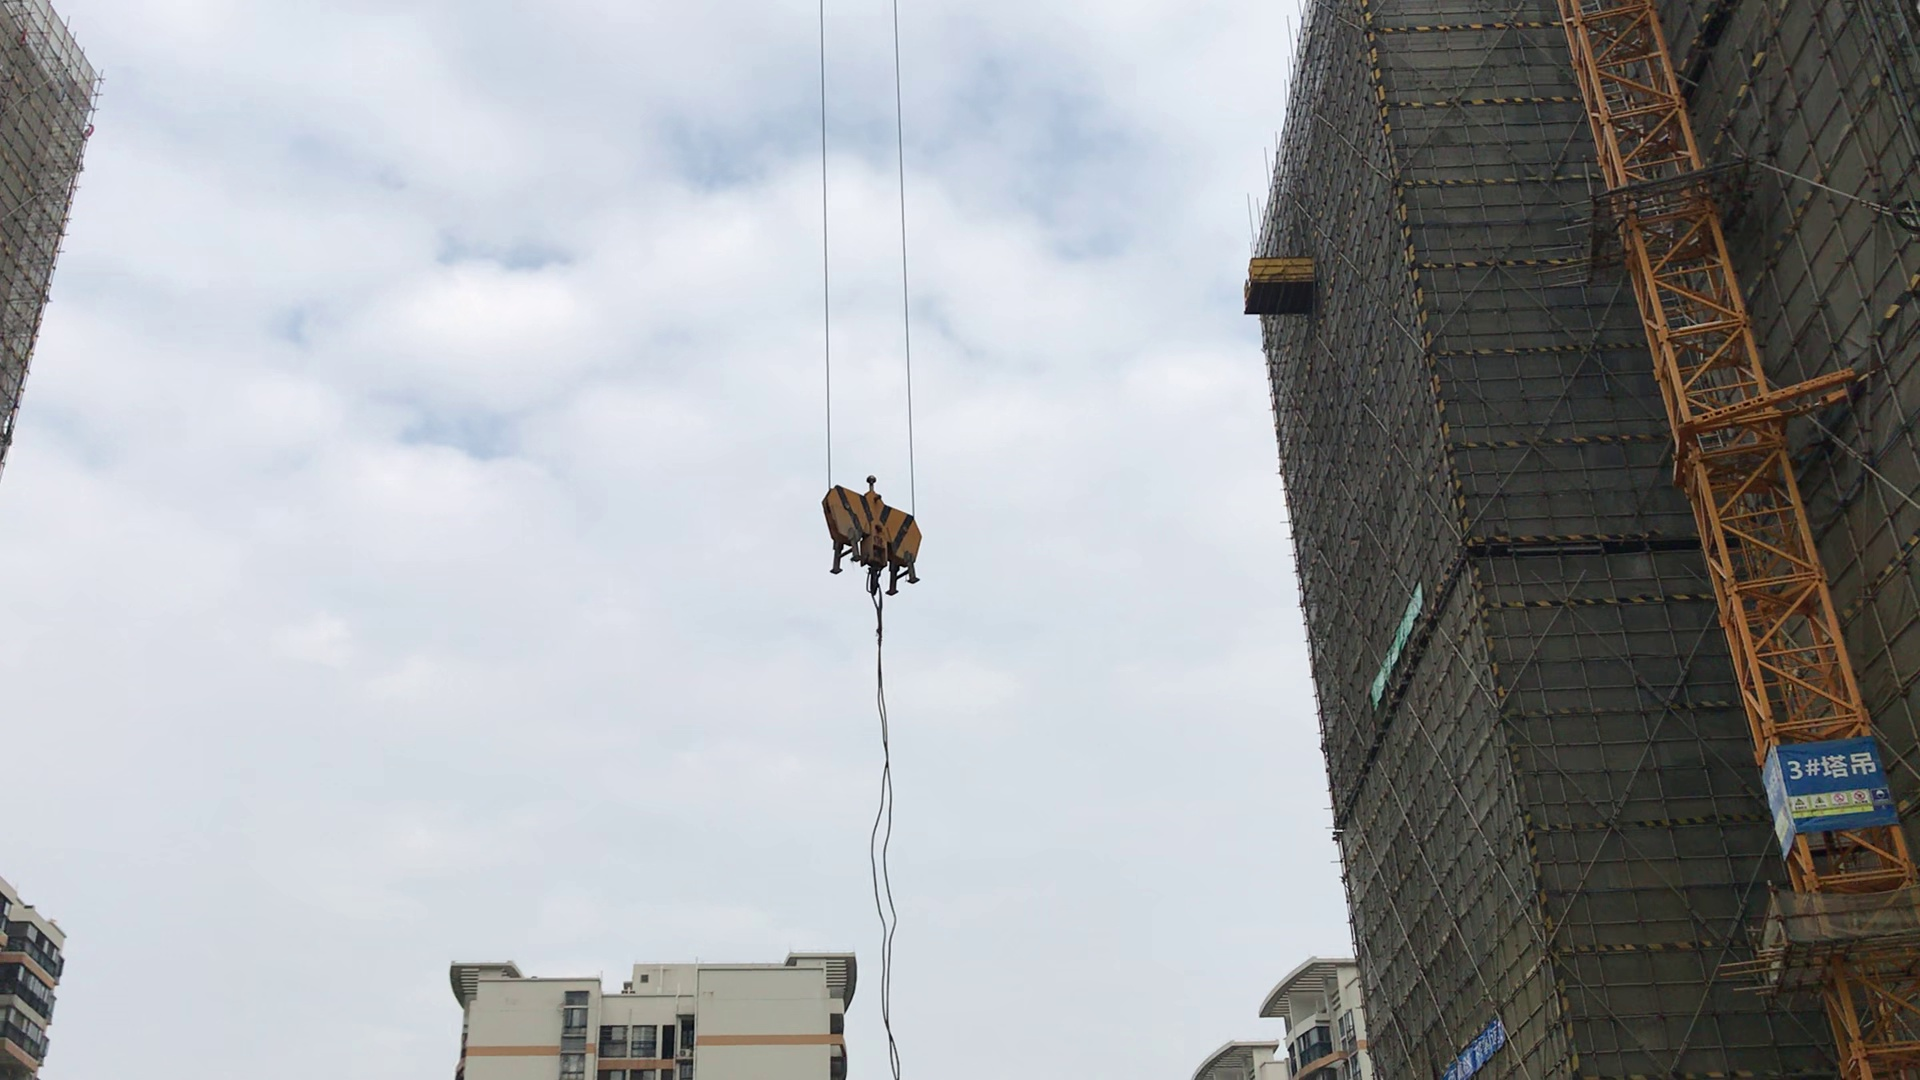hook: (822, 476, 926, 597)
slogan: (1358, 578, 1433, 709), (1433, 1025, 1515, 1077), (1788, 745, 1878, 786), (1793, 786, 1891, 818), (1775, 804, 1789, 843)
